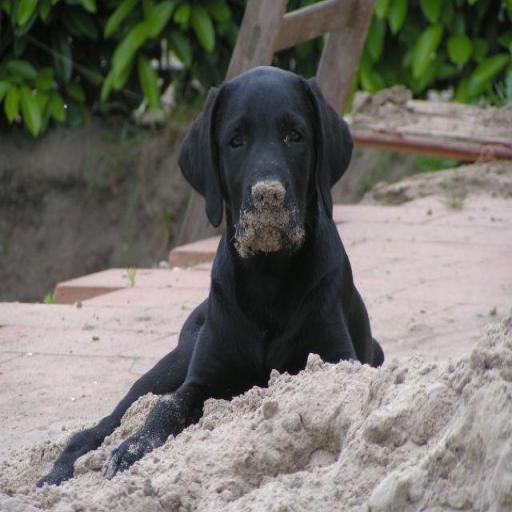dog_face: (176, 68, 346, 259)
